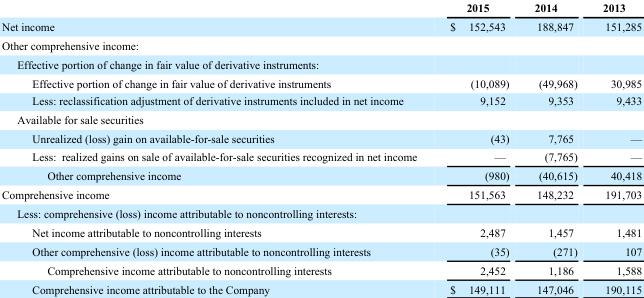table: (1, 0, 641, 294)
table column: (1, 0, 432, 294), (432, 0, 521, 294), (521, 0, 589, 294), (589, 0, 641, 294)
table column header: (1, 0, 641, 16)
table projected row header: (1, 35, 641, 54), (1, 54, 641, 73), (1, 203, 641, 222), (1, 110, 641, 128)
table row: (1, 16, 641, 35), (1, 35, 641, 54), (1, 54, 641, 73), (1, 91, 641, 110), (1, 128, 641, 147), (1, 165, 641, 184), (1, 184, 641, 203), (1, 203, 641, 222), (1, 222, 641, 241), (1, 241, 641, 260), (1, 260, 641, 279), (1, 73, 641, 91), (1, 110, 641, 128), (1, 147, 641, 165), (1, 0, 641, 16), (1, 279, 641, 294)
